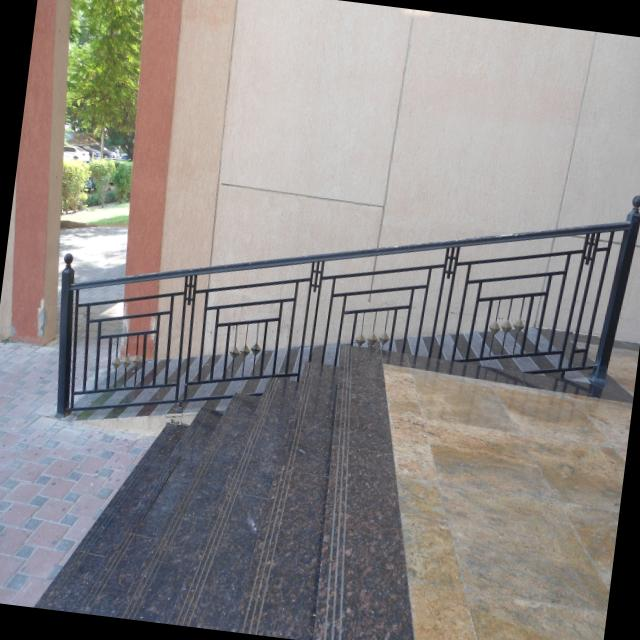railing: (57, 212, 640, 424)
ramp: (45, 323, 628, 418)
stairs: (28, 307, 420, 640)
